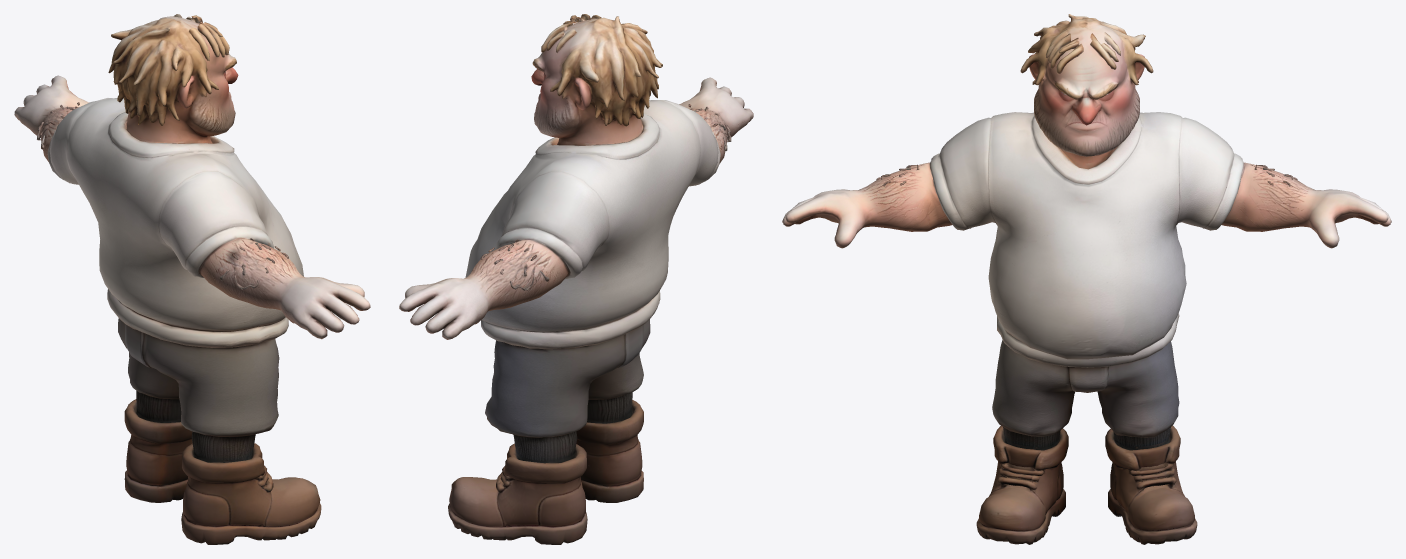
3 views of the same model, side by side, from view 1: azimuth 30°, elevation 25°; view 2: azimuth 150°, elevation 25°; view 3: azimuth 270°, elevation 25° (orthographic). The views are drawn at different scales.
Parts seen in each view (by area): view 1: tripo_node_9713f4e3; view 2: tripo_node_9713f4e3; view 3: tripo_node_9713f4e3.
Boxes of the visible parts, <box> form: tripo_node_9713f4e3: <box>14,14,370,544</box>; tripo_node_9713f4e3: <box>399,14,753,544</box>; tripo_node_9713f4e3: <box>782,14,1391,544</box>.
Size of the model in its own units: 0.3327 by 0.8689 by 1.
Materials: 1 (1 with a texture image).
